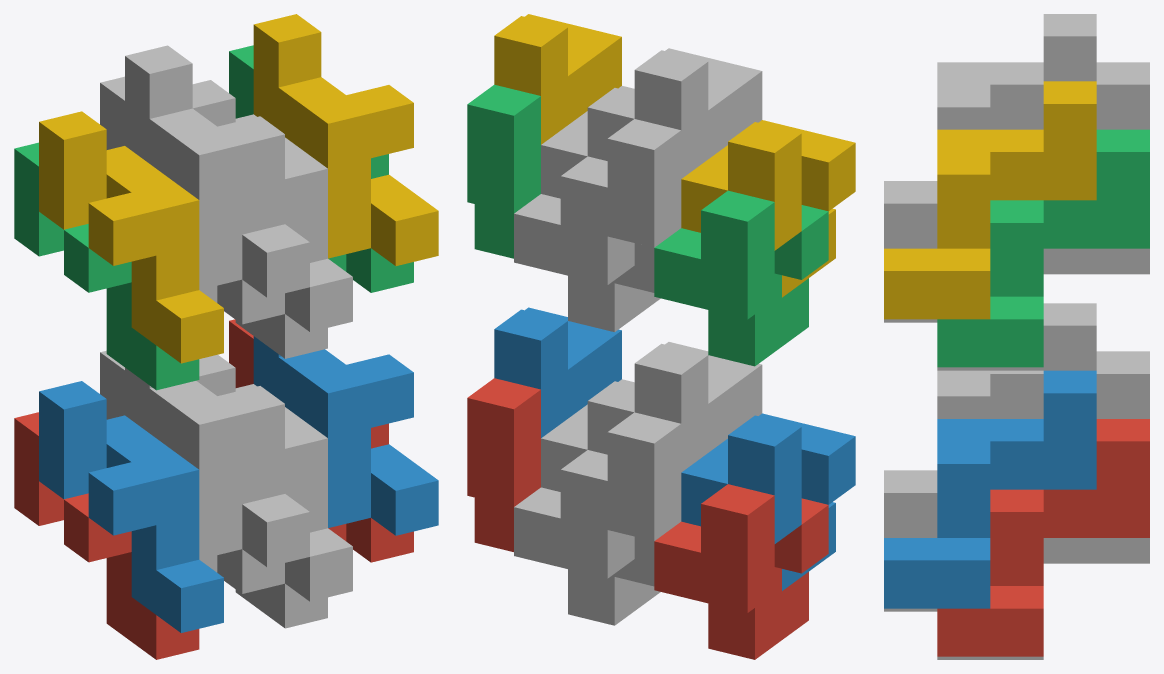
Rendered from tiling.obj.
3 views of the same model, side by side, from view 1: azimuth 30°, elevation 25°; view 2: azimuth 150°, elevation 25°; view 3: azimuth 270°, elevation 25° (orthographic). The views are drawn at different scales.
Parts seen in each view (by area): view 1: copy_1_domain_2, copy_1_domain_4, copy_2_domain_8, copy_2_domain_4, copy_2_domain_6, copy_2_domain_2, copy_1_domain_8, copy_1_domain_6, copy_1_domain_1, copy_1_domain_3, copy_2_domain_7, copy_2_domain_5 (+4 smaller); view 2: copy_1_domain_3, copy_1_domain_1, copy_1_domain_2, copy_1_domain_4, copy_1_domain_5, copy_1_domain_7, copy_2_domain_4, copy_2_domain_8, copy_2_domain_7, copy_2_domain_5, copy_2_domain_2, copy_2_domain_6 (+4 smaller); view 3: copy_2_domain_8, copy_2_domain_6, copy_2_domain_7, copy_2_domain_5, copy_2_domain_4, copy_2_domain_2, copy_2_domain_1, copy_2_domain_3, copy_1_domain_7, copy_1_domain_5.
Boxes of the visible parts, box(x1,y1,x2,y2) form: copy_1_domain_2: box(39, 381, 223, 632); copy_1_domain_4: box(39, 111, 223, 363); copy_2_domain_8: box(253, 14, 438, 265); copy_2_domain_4: box(125, 45, 309, 297); copy_2_domain_6: box(253, 336, 438, 535); copy_2_domain_2: box(125, 367, 309, 567); copy_1_domain_8: box(192, 80, 352, 331); copy_1_domain_6: box(196, 354, 352, 601); copy_1_domain_1: box(14, 412, 199, 659); copy_1_domain_3: box(14, 142, 199, 390); copy_2_domain_7: box(229, 45, 413, 292); copy_2_domain_5: box(229, 319, 413, 562); copy_1_domain_3: box(654, 190, 828, 366); copy_1_domain_1: box(654, 484, 828, 659); copy_1_domain_2: box(681, 413, 855, 590); copy_1_domain_4: box(681, 120, 855, 297); copy_1_domain_5: box(514, 450, 660, 625); copy_1_domain_7: box(514, 156, 660, 332); copy_2_domain_4: box(634, 48, 762, 178); copy_2_domain_8: box(494, 14, 621, 144); copy_2_domain_7: box(467, 84, 540, 258); copy_2_domain_5: box(467, 378, 540, 551); copy_2_domain_2: box(634, 342, 762, 472); copy_2_domain_6: box(494, 307, 621, 437); copy_2_domain_8: box(884, 81, 1096, 319); copy_2_domain_6: box(884, 370, 1096, 608); copy_2_domain_7: box(937, 129, 1149, 367); copy_2_domain_5: box(937, 419, 1149, 656); copy_2_domain_4: box(884, 14, 1096, 248); copy_2_domain_2: box(884, 303, 1096, 537); copy_2_domain_1: box(1096, 351, 1149, 418); copy_2_domain_3: box(1096, 62, 1149, 129); copy_1_domain_7: box(937, 248, 1149, 370); copy_1_domain_5: box(937, 538, 1149, 659).
Size of the model in its own units: 7 by 12 by 5.
